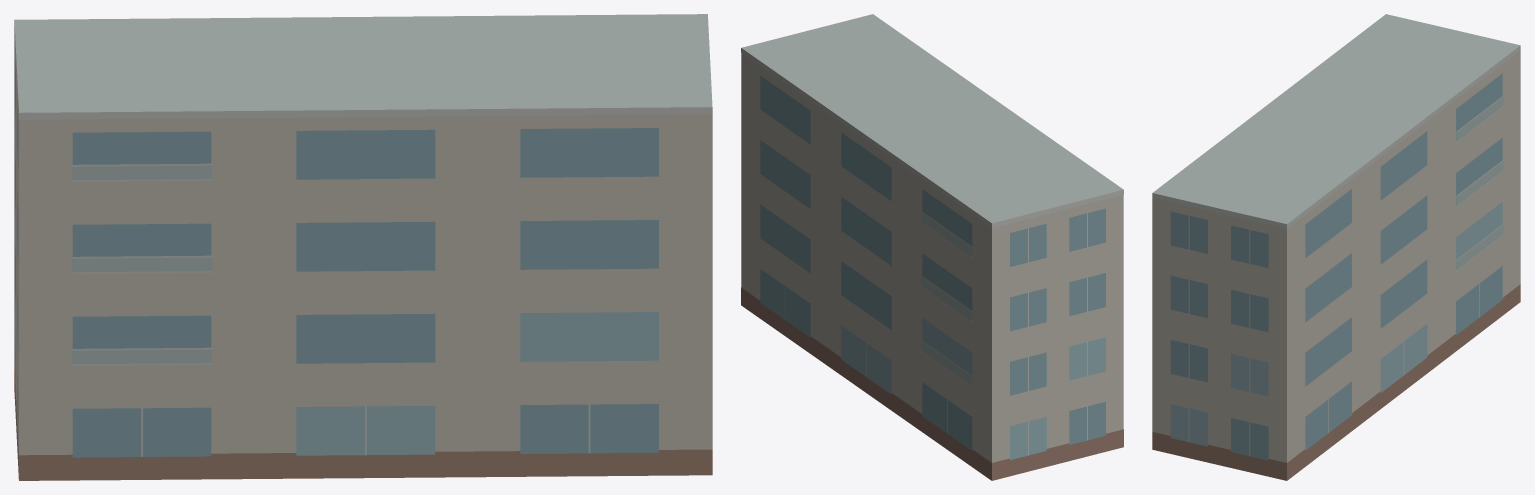
File: survey-upis-32673587.glb
3 renders of one model, left to right at view 1: azimuth 30°, elevation 25°; view 2: azimuth 150°, elevation 25°; view 3: azimuth 270°, elevation 25°, orthographic. The views are drawn at different scales.
Parts seen in each view (by area): view 1: survey-upis-32673587.tmp; view 2: survey-upis-32673587.tmp; view 3: survey-upis-32673587.tmp.
Part boxes in pixels (<box>): survey-upis-32673587.tmp: <box>14,14,712,480</box>; survey-upis-32673587.tmp: <box>741,14,1123,480</box>; survey-upis-32673587.tmp: <box>1152,14,1520,480</box>.
Size of the model in its own units: 22.49 by 12.8 by 16.65.
